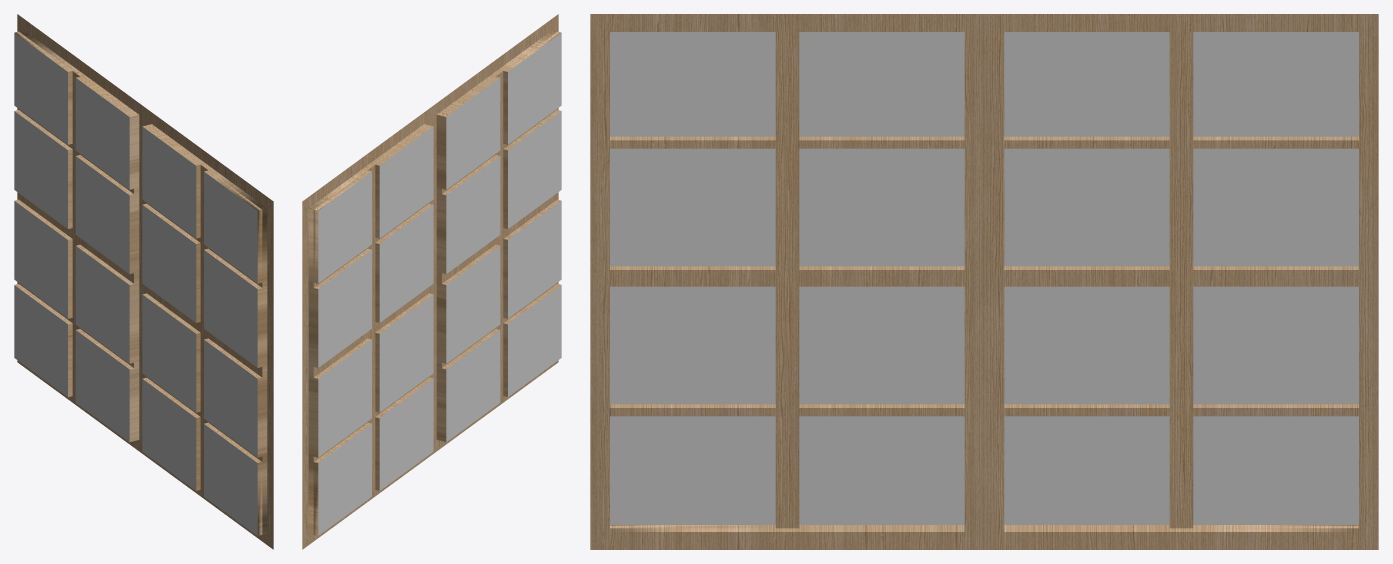
Rendered from Wall_03.fbx.
3 views of the same model, side by side, from view 1: azimuth 30°, elevation 25°; view 2: azimuth 150°, elevation 25°; view 3: azimuth 270°, elevation 25° (orthographic). The views are drawn at different scales.
Parts seen in each view (by area): view 1: Wall_03; view 2: Wall_03; view 3: Wall_03.
Part boxes in pixels (bbox=[...]): Wall_03: bbox=[14, 14, 273, 549]; Wall_03: bbox=[302, 14, 561, 549]; Wall_03: bbox=[590, 14, 1378, 549].
Bounding box in the file's own units: 8.68 × 300 × 400.
